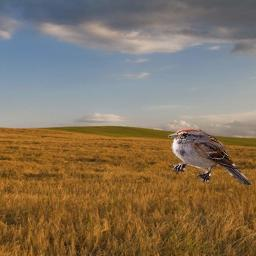Sparrow: (168, 127, 252, 191)
